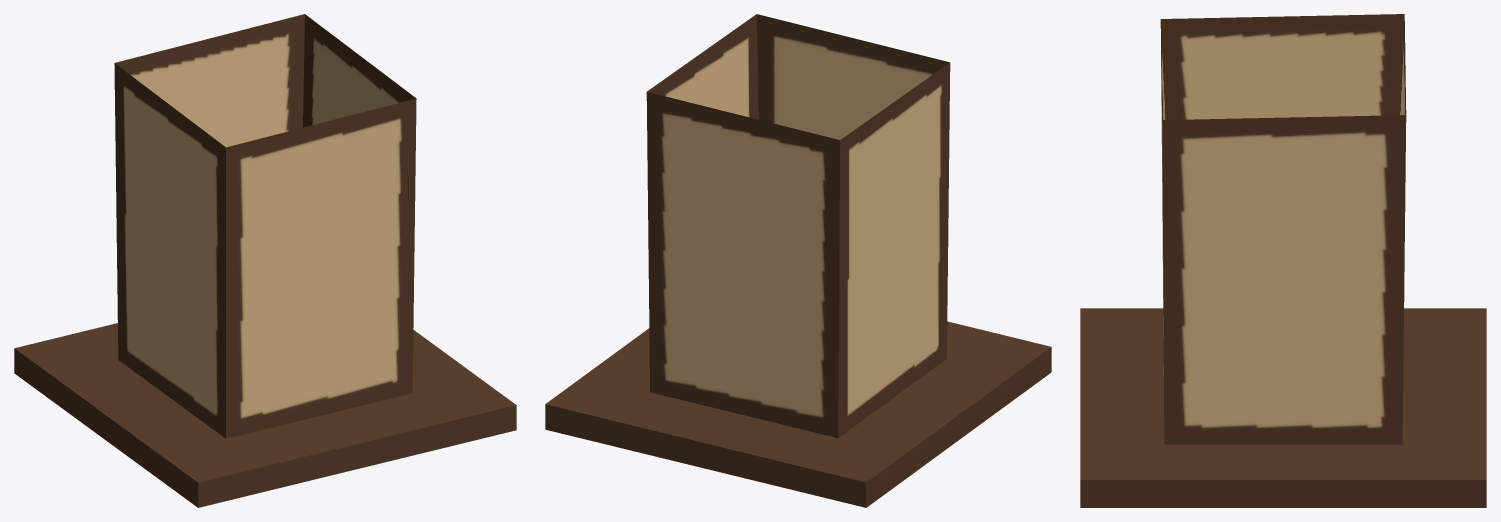
Rendered from OBJET_Water_Lantern.fbx.
The picture shows the model from 3 angles, left to right: view 1: azimuth 30°, elevation 25°; view 2: azimuth 150°, elevation 25°; view 3: azimuth 270°, elevation 25°; orthographic projection. The views are drawn at different scales.
Visible parts, largest first — view 1: Plane; view 2: Plane; view 3: Plane.
Boxes of the visible parts, x1,y1,x2,y2 form: Plane: (14, 14, 516, 507); Plane: (545, 14, 1051, 507); Plane: (1080, 14, 1486, 507).
Bounding box in the file's own units: 51.96 × 50.54 × 51.96.
1 material, 1 textured.
